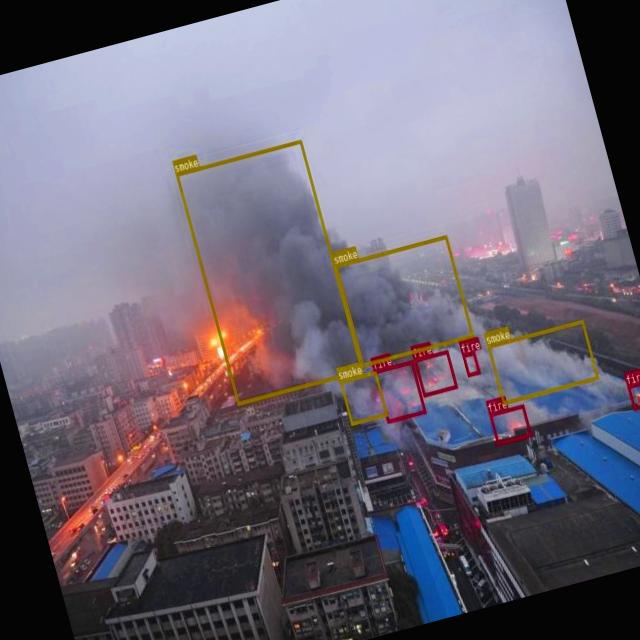fire: (372, 360, 426, 422), (412, 348, 457, 396), (488, 404, 532, 444), (461, 350, 480, 376), (626, 381, 640, 409)
smoke: (174, 138, 363, 405), (334, 234, 473, 366), (486, 318, 598, 404), (338, 370, 388, 424)
